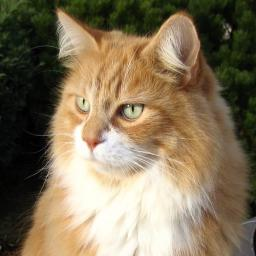catnose: (81, 134, 103, 154)
